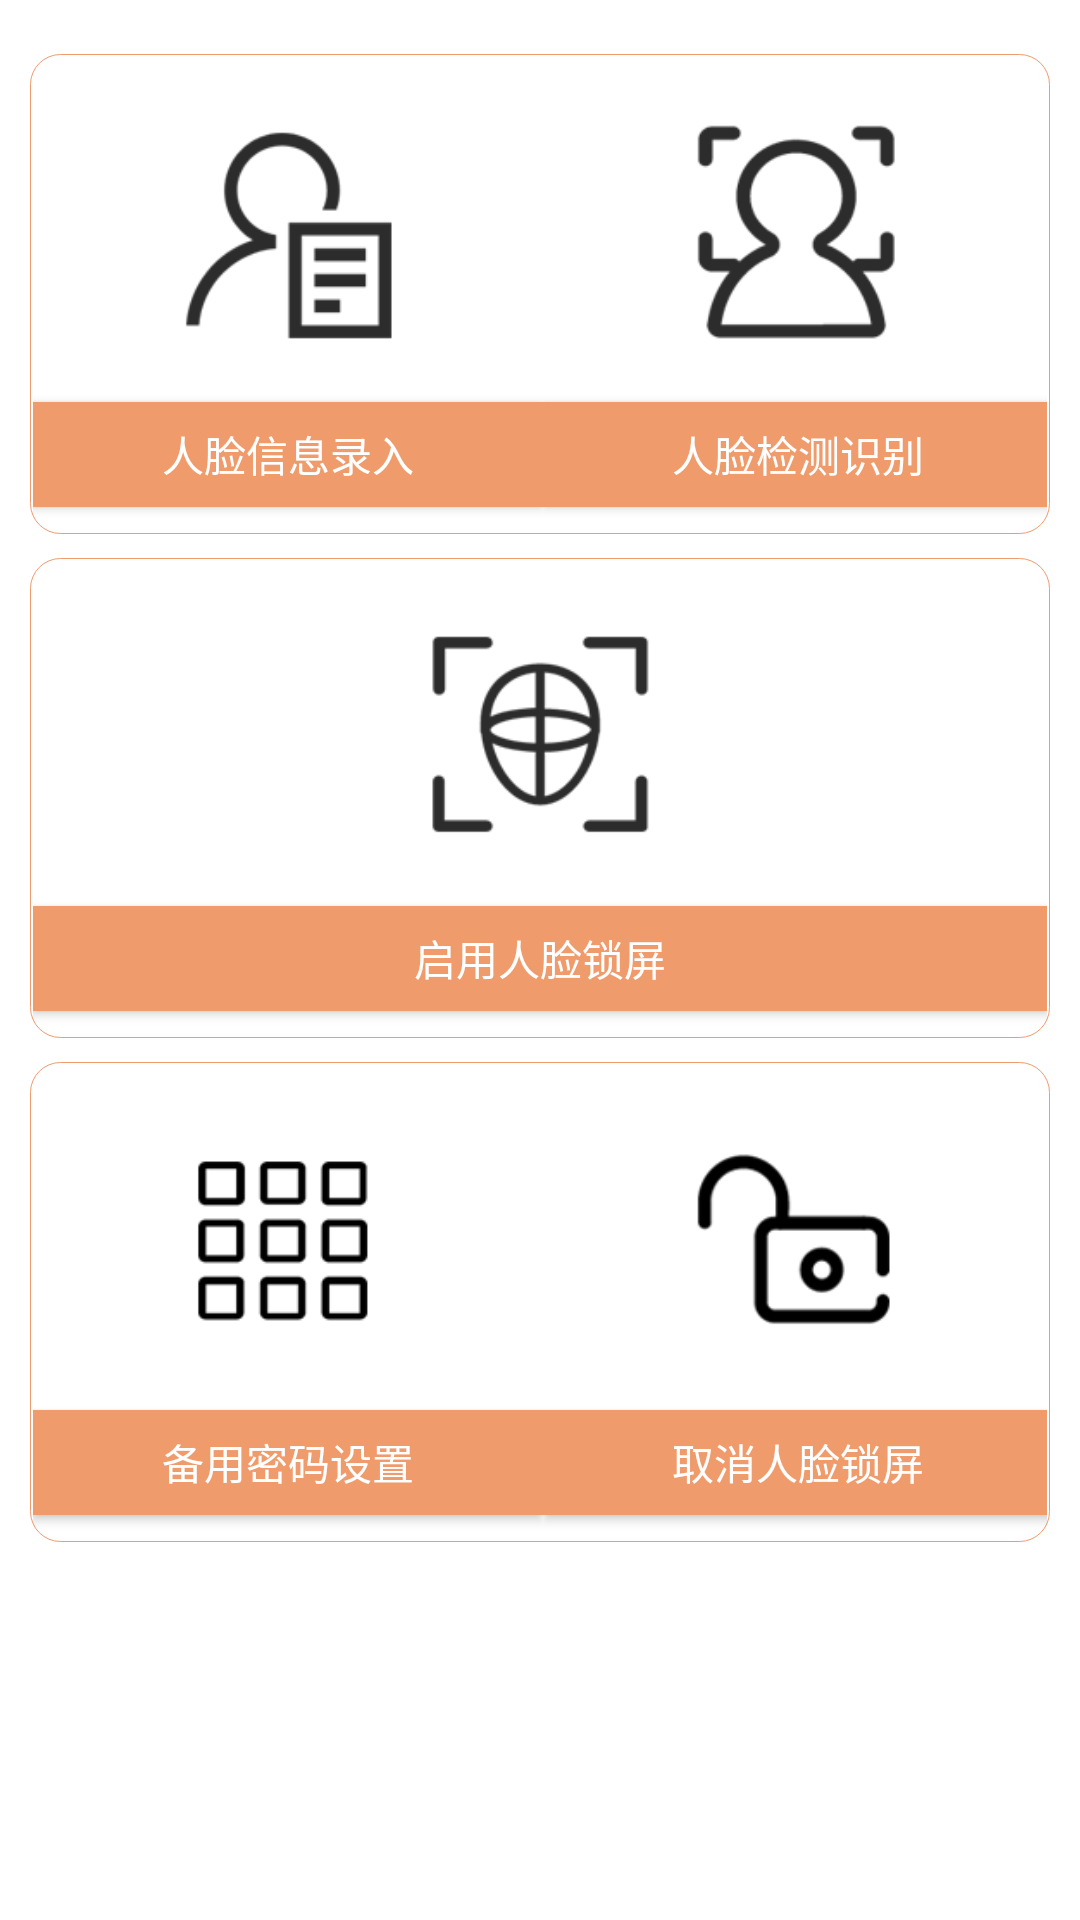

Icons on this 1080px×1920px Android screen, each with the point to tap as (x,y):
cancel lock: (793,1239)
